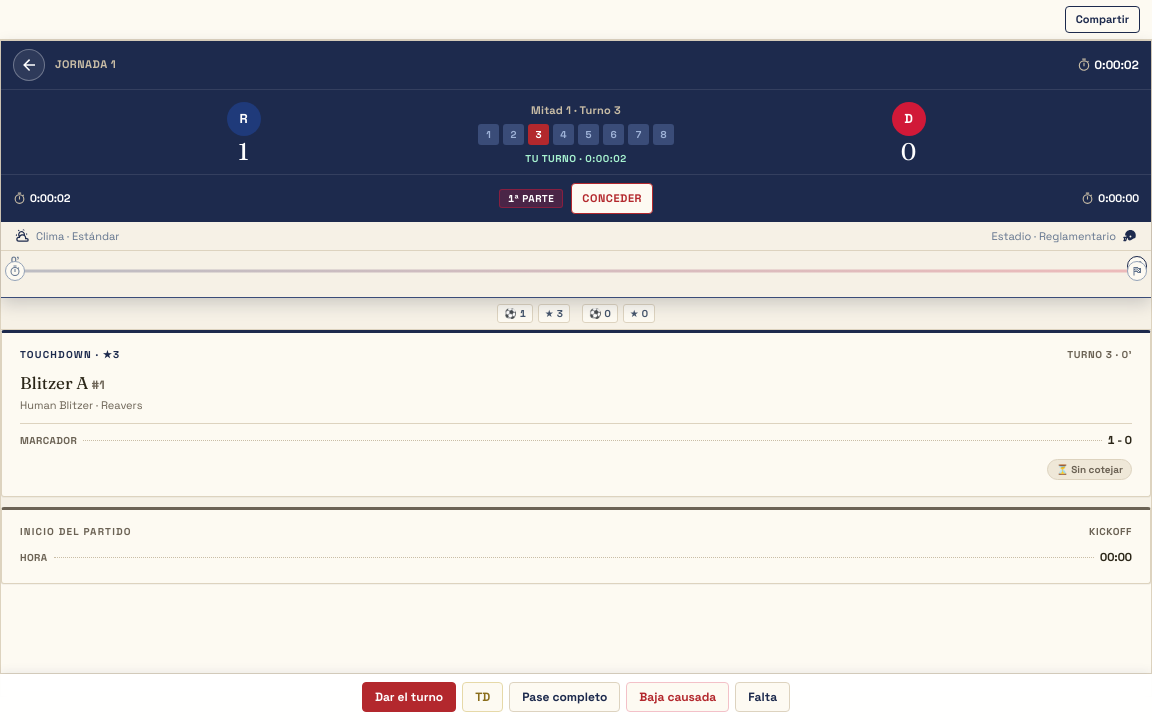
Test case: MatchView — double-click guard on live commands (in-flight lock) › advances the turn by exactly one on a normal single 'Dar el turno' click
Expected: the text "Mitad 1 · Turno 3" is shown, [531,102,621,118]
Click the button "Dar el turno" at {"x": 409, "y": 697}, box [362,682,456,712]
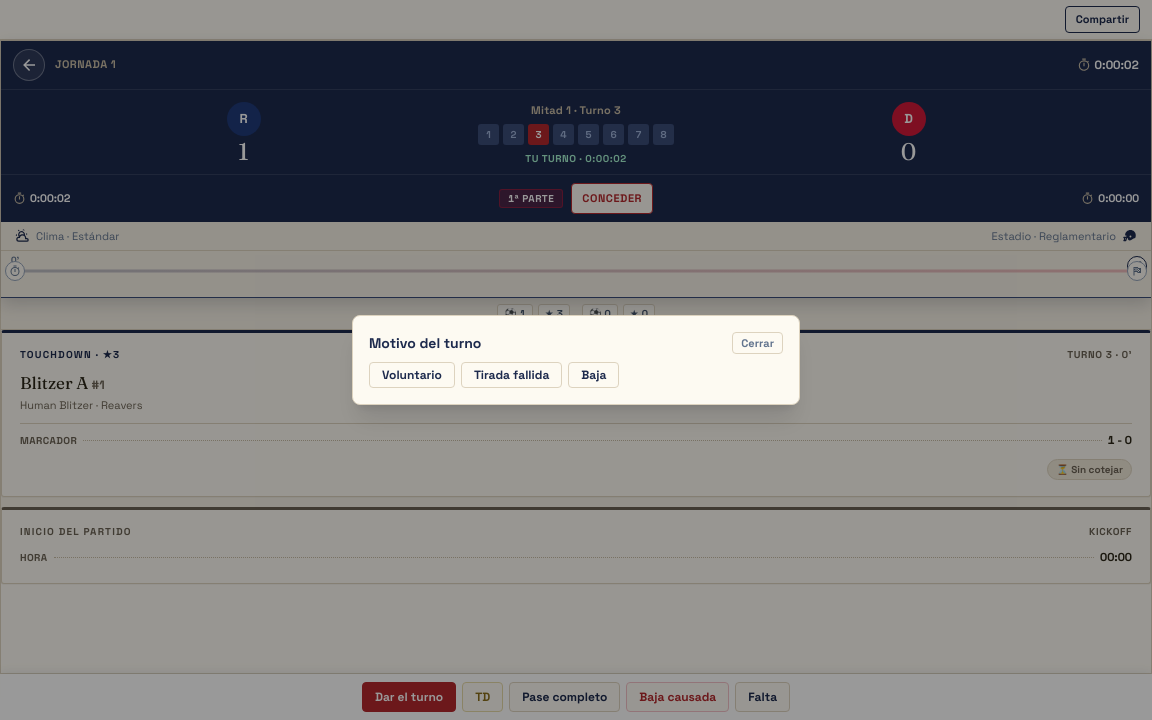
Click the button "Voluntario" at {"x": 412, "y": 375}, box [369,362,455,388]
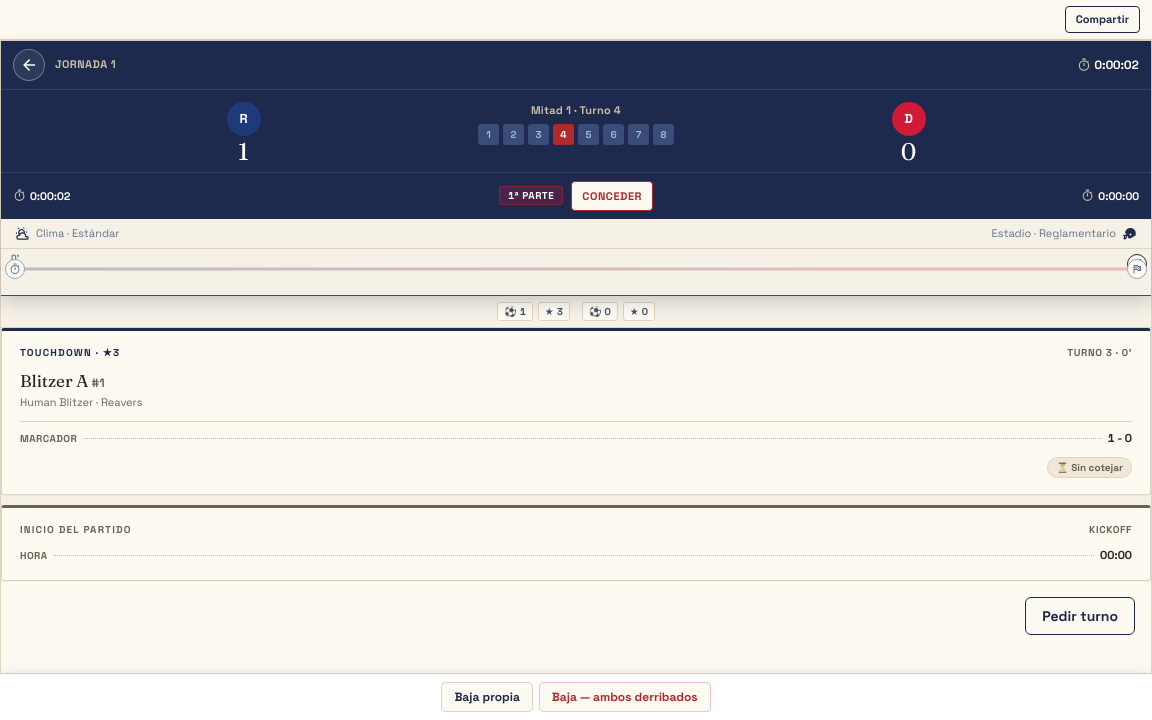
Expected: the text "Mitad 1 · Turno 4" is shown, [531,102,621,118]
